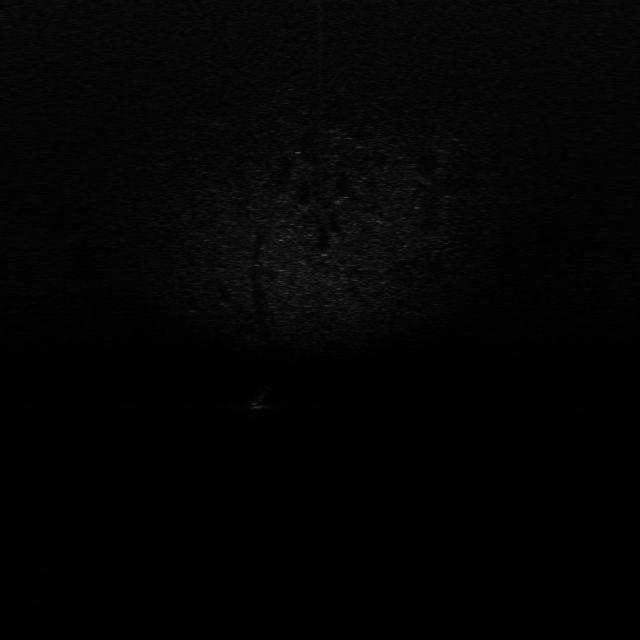human body: (243, 379, 279, 423)
